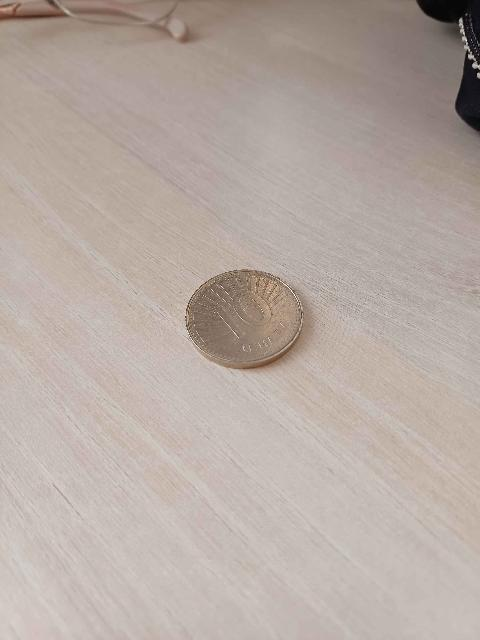coin: (186, 270, 302, 368)
